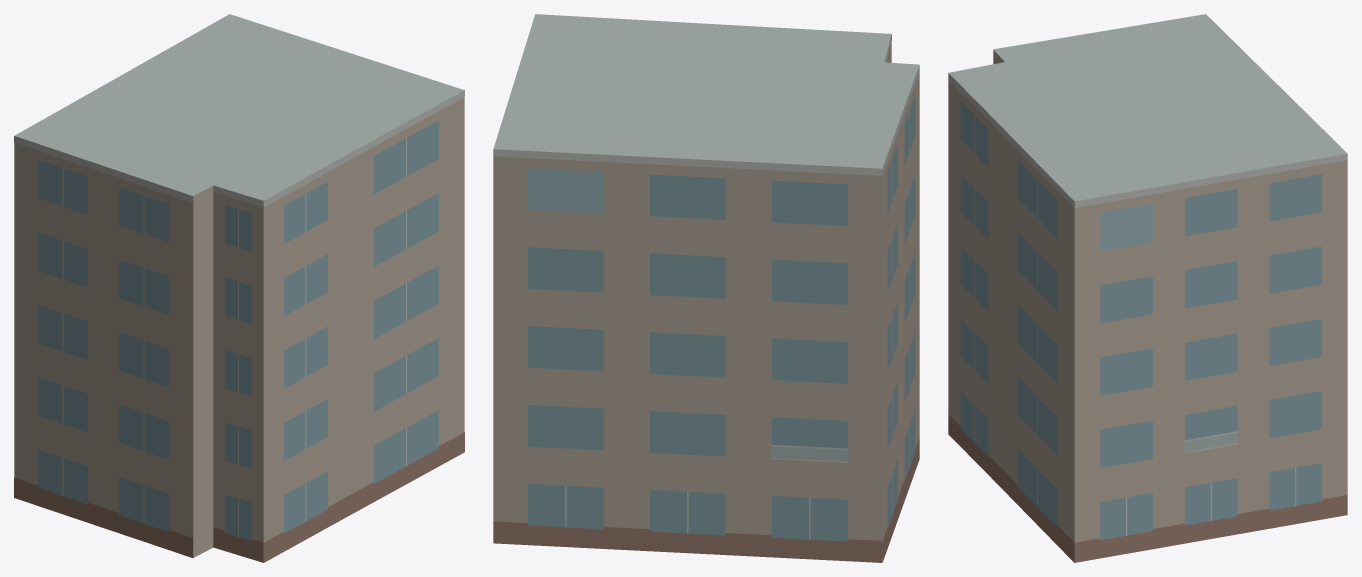
File: survey-upis-32980971.glb
3 views of the same model, side by side, from view 1: azimuth 30°, elevation 25°; view 2: azimuth 150°, elevation 25°; view 3: azimuth 270°, elevation 25° (orthographic). The views are drawn at different scales.
Parts seen in each view (by area): view 1: survey-upis-32980971.tmp; view 2: survey-upis-32980971.tmp; view 3: survey-upis-32980971.tmp.
Boxes of the visible parts, <box> form: survey-upis-32980971.tmp: <box>14,14,464,562</box>; survey-upis-32980971.tmp: <box>493,14,919,562</box>; survey-upis-32980971.tmp: <box>948,14,1347,562</box>.
Bounding box in the file's own units: 14.69 × 13.2 × 13.23.
